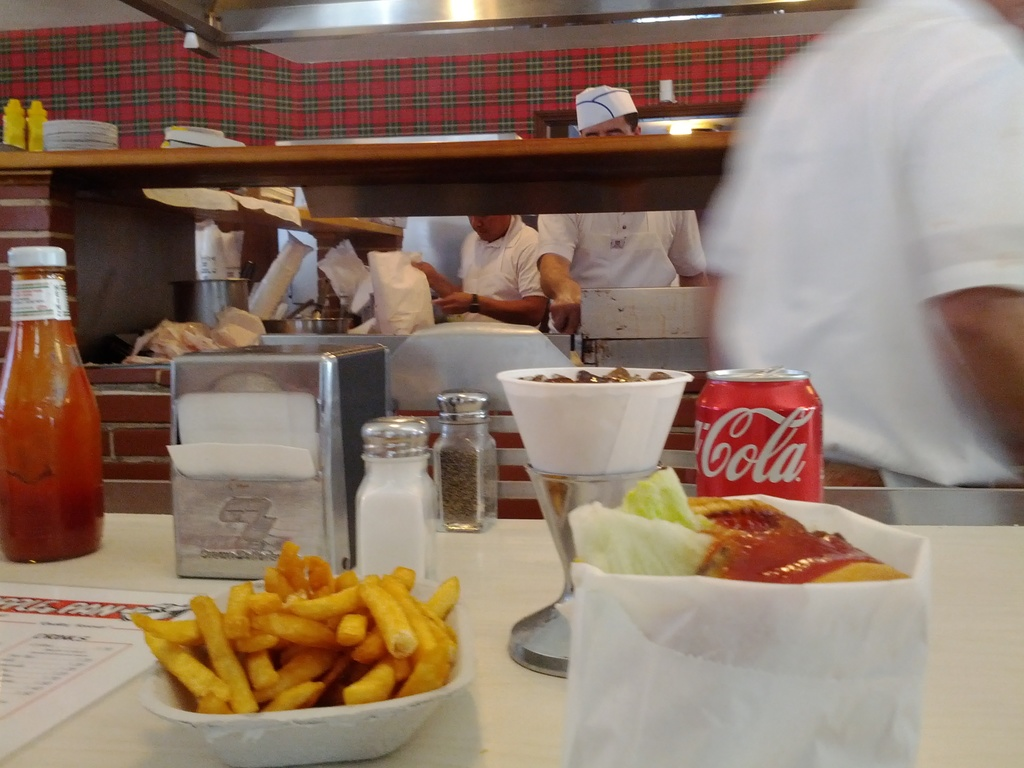French fries: (145, 560, 437, 741)
